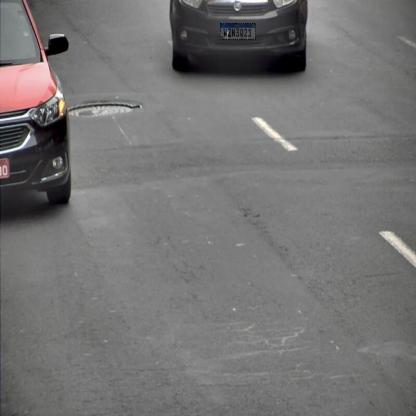PlacaM: (220, 23, 256, 39)
